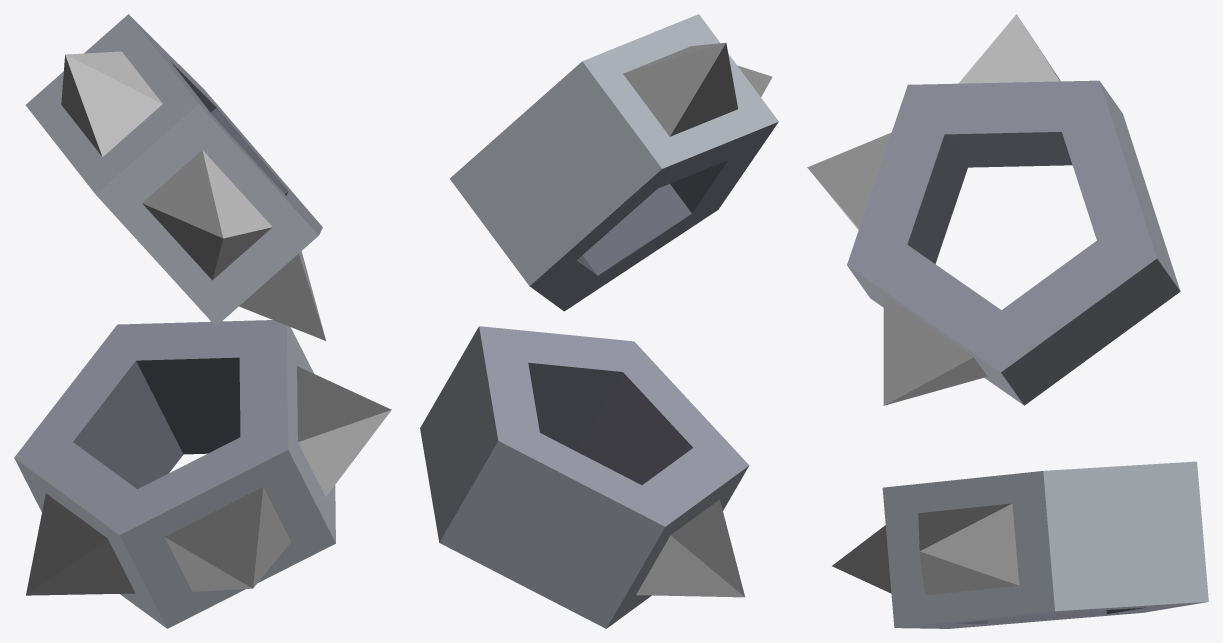
The model's file is F_Earrings_PunkPiercing.glb.
The picture shows the model from 3 angles, left to right: view 1: azimuth 30°, elevation 25°; view 2: azimuth 150°, elevation 25°; view 3: azimuth 270°, elevation 25°; orthographic projection. The views are drawn at different scales.
Visible parts, largest first — view 1: F_Earrings_PunkPiercing; view 2: F_Earrings_PunkPiercing; view 3: F_Earrings_PunkPiercing.
Boxes of the visible parts, x1,y1,x2,y2 form: F_Earrings_PunkPiercing: (14,14,391,628); F_Earrings_PunkPiercing: (420,14,778,628); F_Earrings_PunkPiercing: (807,14,1208,628).
Size of what is drawn, in the model's own units: 0.4331 by 0.7397 by 0.464.
Materials: 1 (1 with a texture image).
